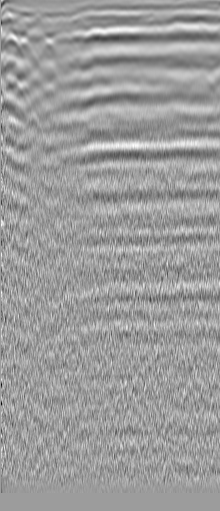오수: (15, 15, 47, 43)
우수: (165, 15, 185, 35)
